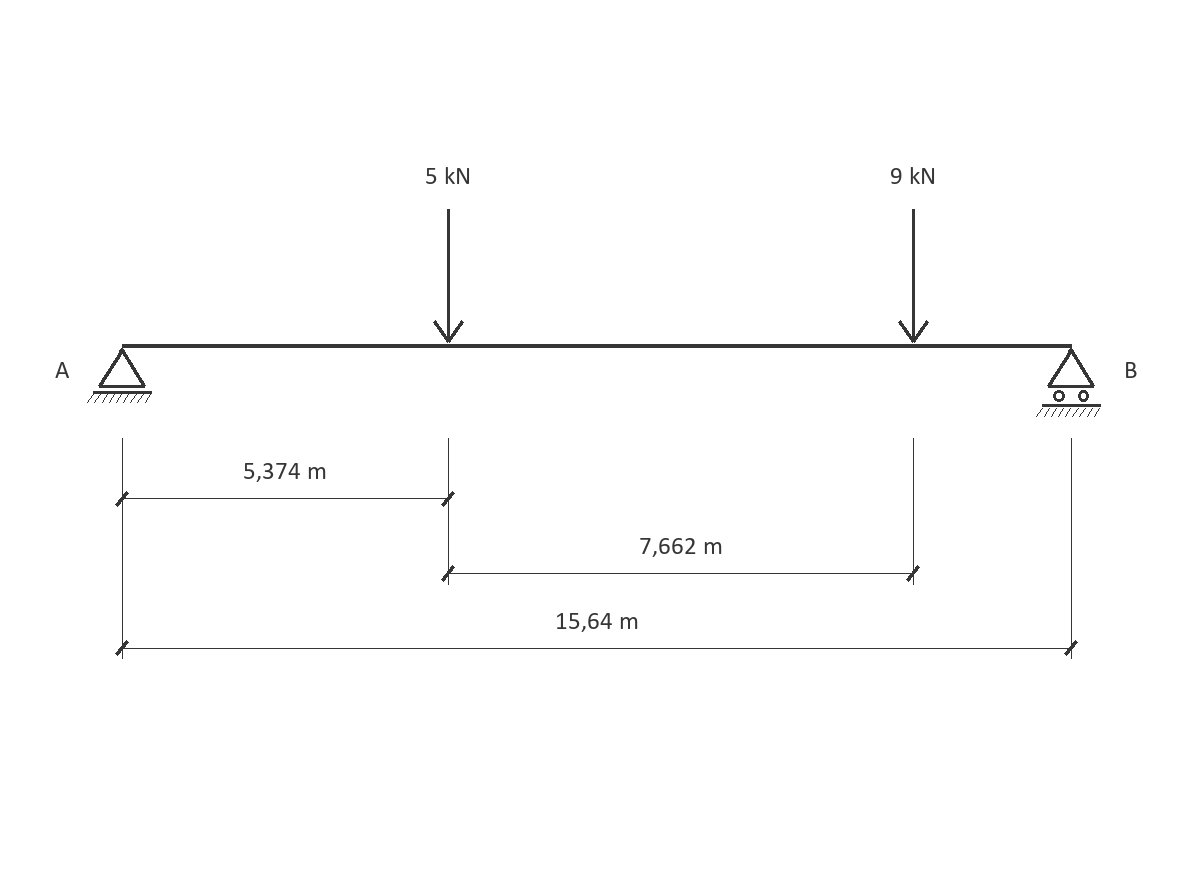pin_support: (87, 348, 152, 403)
point_load: (433, 209, 464, 343), (898, 209, 929, 343)
roller_support: (1036, 348, 1101, 417)
